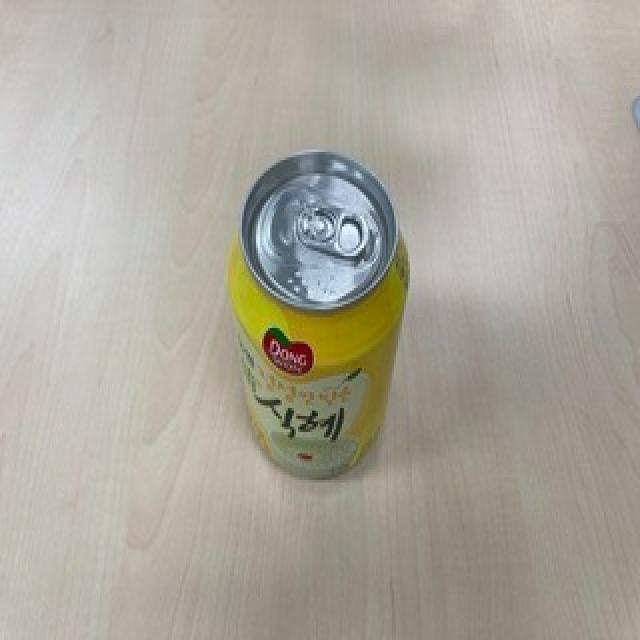can: (225, 140, 413, 489)
